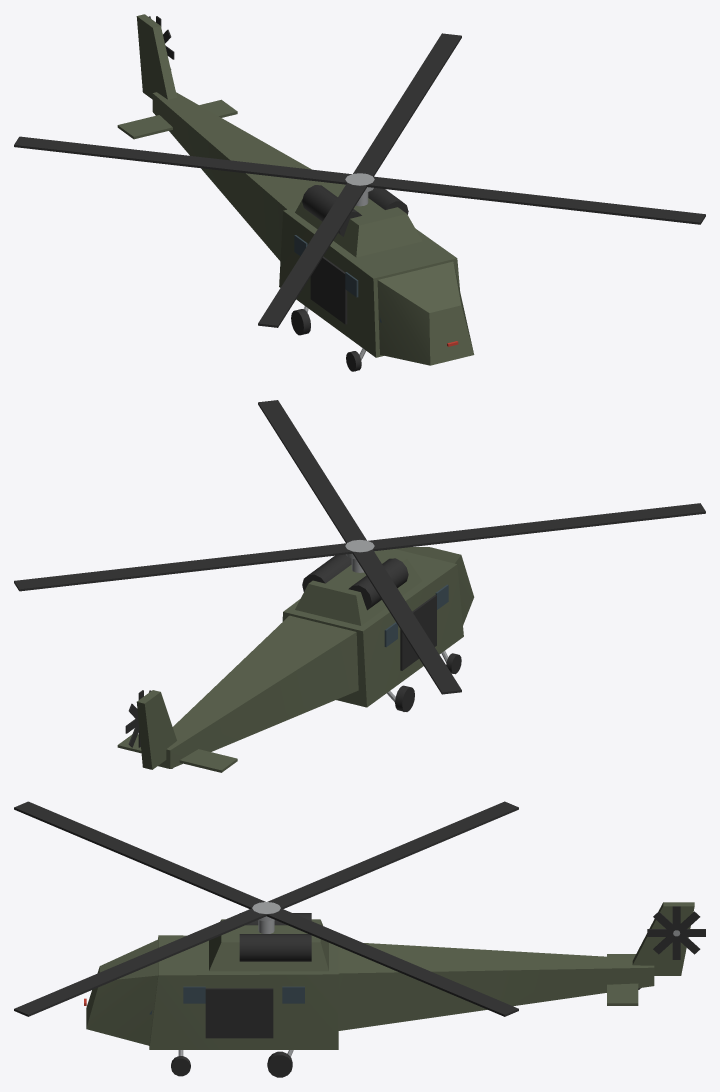
Rendered from vehicle_heli.glb.
3 renders of one model, top to bottom at view 1: azimuth 30°, elevation 25°; view 2: azimuth 150°, elevation 25°; view 3: azimuth 270°, elevation 25°, orthographic. The views are drawn at different scales.
Visible parts, largest first — view 1: Helicopter, Rotor; view 2: Helicopter, Rotor; view 3: Helicopter, Rotor, TailRotor.
Boxes of the visible parts, bbox=[...] form: Helicopter: bbox=[117, 14, 474, 371]; Rotor: bbox=[14, 33, 705, 327]; Helicopter: bbox=[117, 547, 474, 772]; Rotor: bbox=[14, 400, 705, 694]; Helicopter: bbox=[84, 902, 694, 1077]; Rotor: bbox=[14, 801, 518, 1016]; TailRotor: bbox=[647, 906, 705, 959].
Size of what is drawn, in the model's own units: 11.21 by 3.68 by 15.35.
